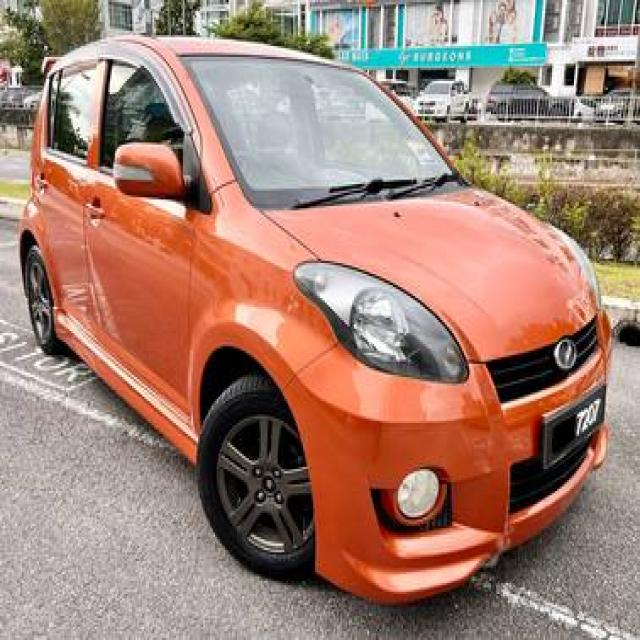PeroduaMyvi: (15, 28, 613, 605)
